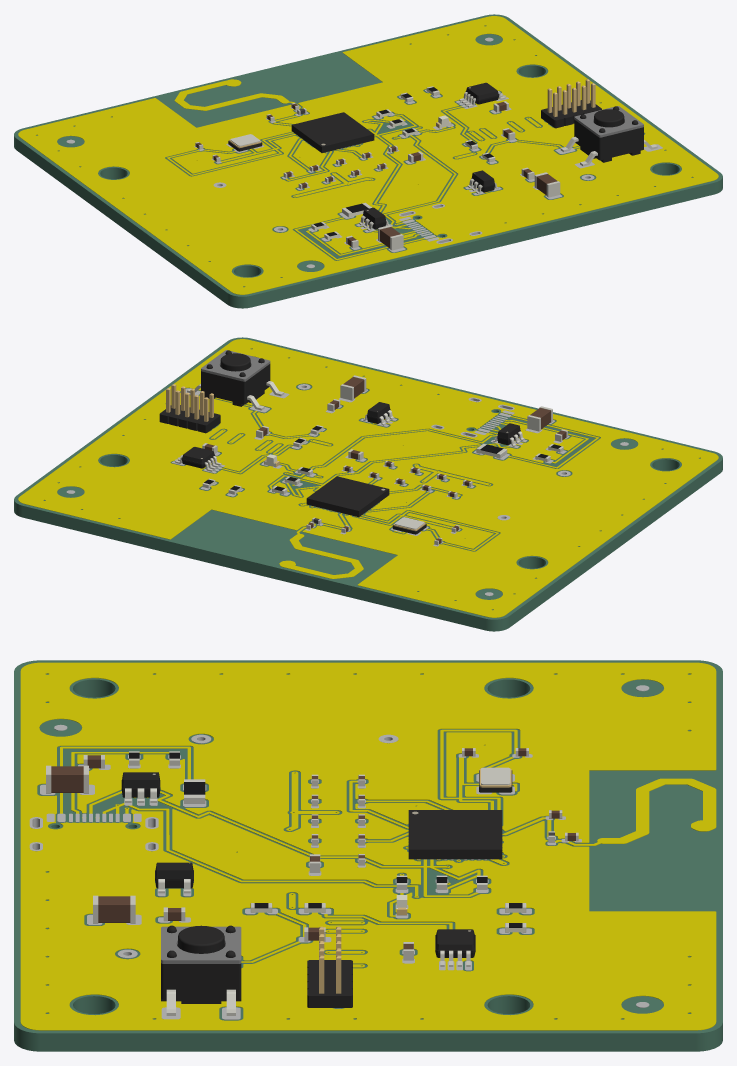
Rendered from board.glb.
3 views of the same model, one above another, from view 1: azimuth 30°, elevation 25°; view 2: azimuth 150°, elevation 25°; view 3: azimuth 270°, elevation 25° (orthographic). The views are drawn at different scales.
Visible parts, largest first — view 1: =>[0:1:1:30], =>[0:1:1:33], =>[0:1:1:19], =>[0:1:1:31], =>[0:1:1:29], =>[0:1:1:13], =>[0:1:1:23] (×2), =>[0:1:1:11], =>[0:1:1:21]; view 2: =>[0:1:1:30], =>[0:1:1:33], =>[0:1:1:19], =>[0:1:1:31], =>[0:1:1:29], =>[0:1:1:13], =>[0:1:1:23] (×2), =>[0:1:1:11], =>[0:1:1:21], =>[0:1:1:5]; view 3: =>[0:1:1:30], =>[0:1:1:33], =>[0:1:1:19], =>[0:1:1:31], =>[0:1:1:29], =>[0:1:1:13], =>[0:1:1:23] (×2), =>[0:1:1:11], =>[0:1:1:5], =>[0:1:1:21], =>[0:1:1:25].
Part boxes in pixels (bbox=[...]): =>[0:1:1:30]: bbox=[18, 16, 718, 294]; =>[0:1:1:33]: bbox=[14, 14, 722, 308]; =>[0:1:1:19]: bbox=[560, 106, 657, 166]; =>[0:1:1:31]: bbox=[66, 37, 662, 268]; =>[0:1:1:29]: bbox=[291, 112, 374, 152]; =>[0:1:1:13]: bbox=[541, 79, 601, 128]; =>[0:1:1:23] (×2): bbox=[378, 172, 560, 250]; =>[0:1:1:11]: bbox=[459, 82, 505, 107]; =>[0:1:1:21]: bbox=[467, 170, 498, 194]; =>[0:1:1:30]: bbox=[18, 339, 718, 617]; =>[0:1:1:33]: bbox=[14, 337, 722, 631]; =>[0:1:1:19]: bbox=[187, 350, 284, 410]; =>[0:1:1:31]: bbox=[66, 384, 628, 596]; =>[0:1:1:29]: bbox=[306, 476, 389, 517]; =>[0:1:1:13]: bbox=[159, 384, 220, 433]; =>[0:1:1:23] (×2): bbox=[340, 375, 552, 431]; =>[0:1:1:11]: bbox=[175, 447, 221, 471]; =>[0:1:1:21]: bbox=[363, 402, 394, 425]; =>[0:1:1:5]: bbox=[493, 423, 524, 446]; =>[0:1:1:30]: bbox=[20, 662, 716, 1030]; =>[0:1:1:33]: bbox=[14, 660, 722, 1051]; =>[0:1:1:19]: bbox=[161, 925, 241, 1015]; =>[0:1:1:31]: bbox=[29, 685, 649, 1019]; =>[0:1:1:29]: bbox=[408, 810, 502, 859]; =>[0:1:1:13]: bbox=[307, 926, 352, 1007]; =>[0:1:1:23] (×2): bbox=[46, 765, 135, 923]; =>[0:1:1:11]: bbox=[435, 929, 475, 966]; =>[0:1:1:5]: bbox=[121, 772, 160, 802]; =>[0:1:1:21]: bbox=[155, 862, 193, 893]; =>[0:1:1:25]: bbox=[479, 767, 512, 792].
Size of the model in its own units: 0.066 by 0.0066 by 0.053.
